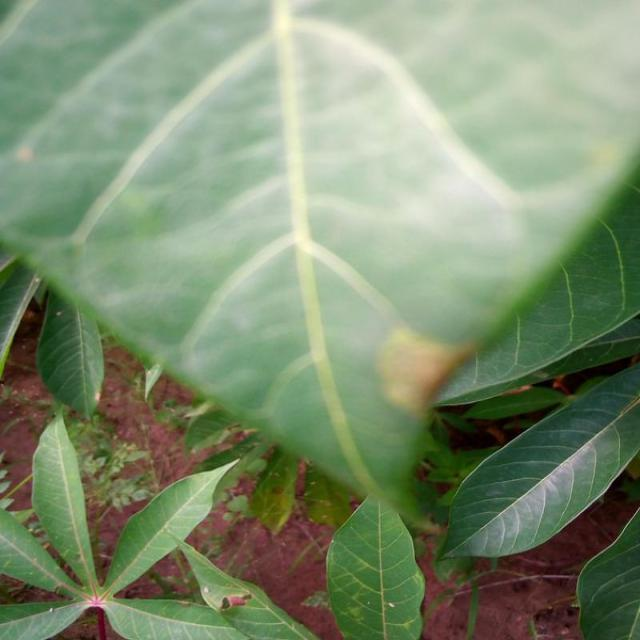cassava leaf: (0, 0, 638, 515), (436, 360, 639, 561), (324, 493, 426, 639), (34, 287, 105, 420)
